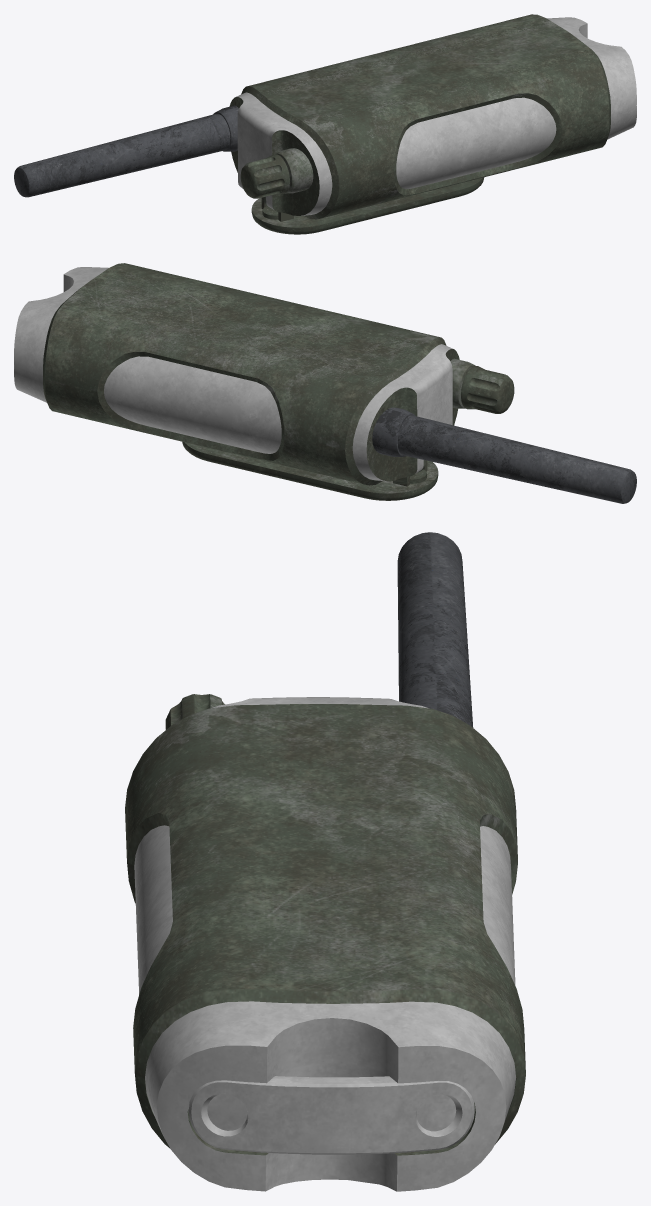
File: walkie talkie.fbx
The picture shows the model from 3 angles, top to bottom: view 1: azimuth 30°, elevation 25°; view 2: azimuth 150°, elevation 25°; view 3: azimuth 270°, elevation 25°; orthographic projection. The views are drawn at different scales.
Visible parts, largest first — view 1: Base.004; view 2: Base.004; view 3: Base.004.
Part boxes in pixels (bbox=[...]): Base.004: bbox=[14, 14, 636, 234]; Base.004: bbox=[14, 263, 636, 503]; Base.004: bbox=[125, 532, 525, 1191].
Bounding box in the file's own units: 73.16 × 14.47 × 22.66.
